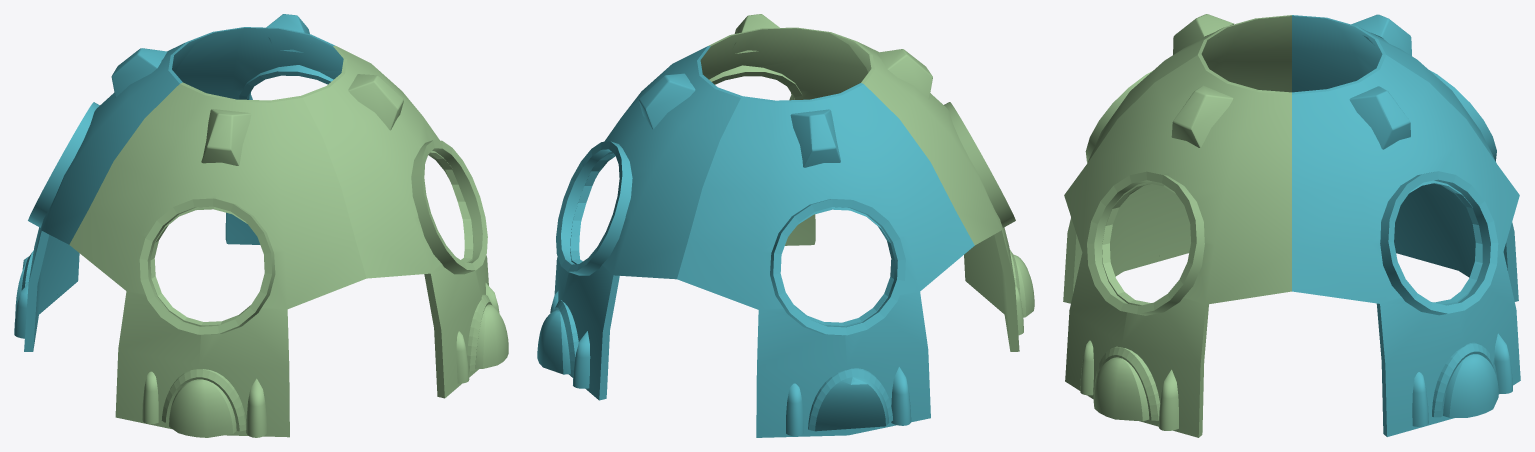
Rendered from tqb.fbx.
3 views of the same model, side by side, from view 1: azimuth 30°, elevation 25°; view 2: azimuth 150°, elevation 25°; view 3: azimuth 270°, elevation 25° (orthographic). The views are drawn at different scales.
Visible parts, largest first — view 1: tqb; view 2: tqb; view 3: tqb.
Part boxes in pixels (x1,y1,x2,y2): tqb: (14, 14, 508, 437); tqb: (537, 14, 1034, 437); tqb: (1063, 14, 1520, 437).
Size of the model in its own units: 41.05 by 28.47 by 41.05.
